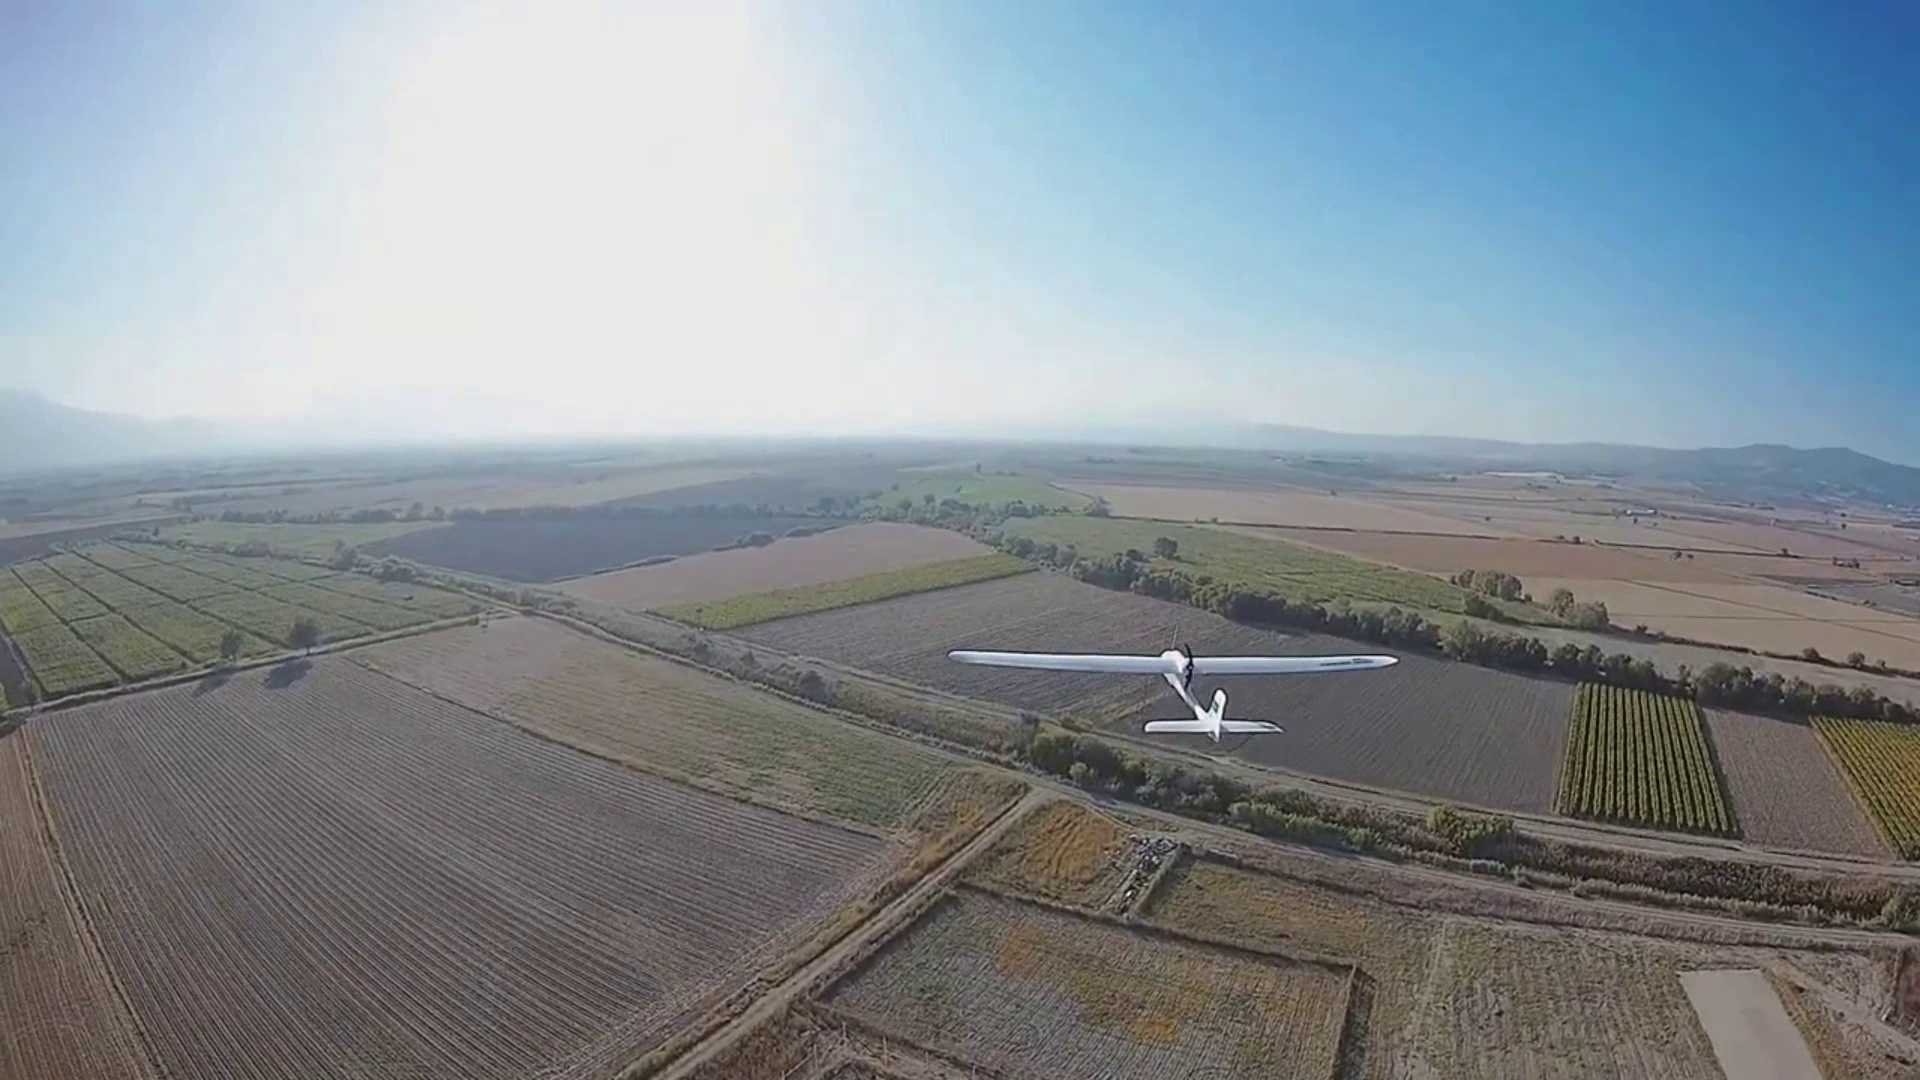airplane: (945, 630, 1399, 740)
